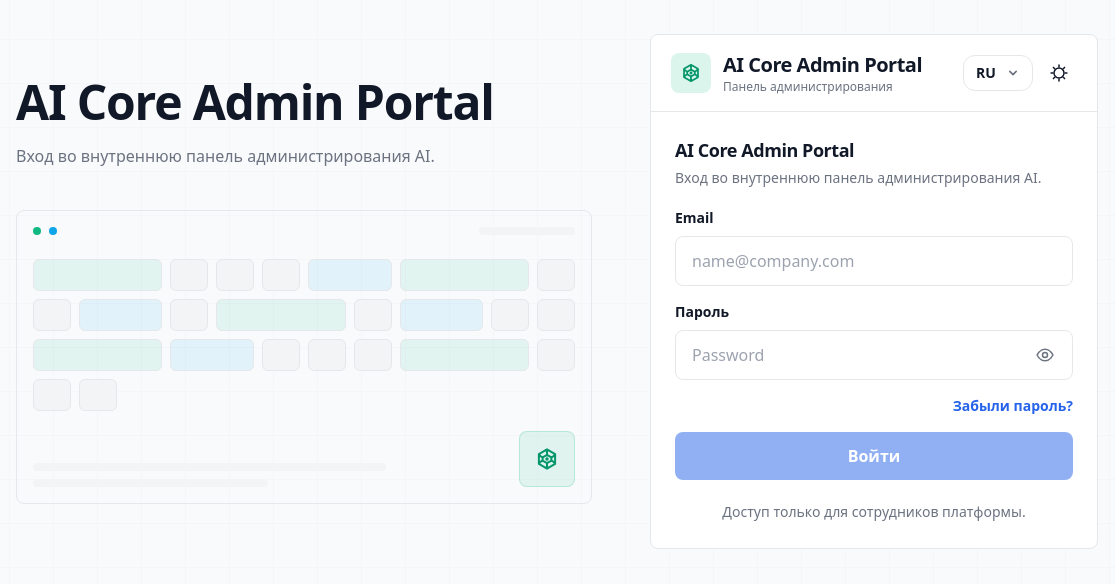
Test case: LoginPage › localizes backend authentication errors by error code
The image size is (1115, 584).
Type "root@mail.com" into the field labelled "Email" at (874, 260), box [675, 236, 1073, 286]
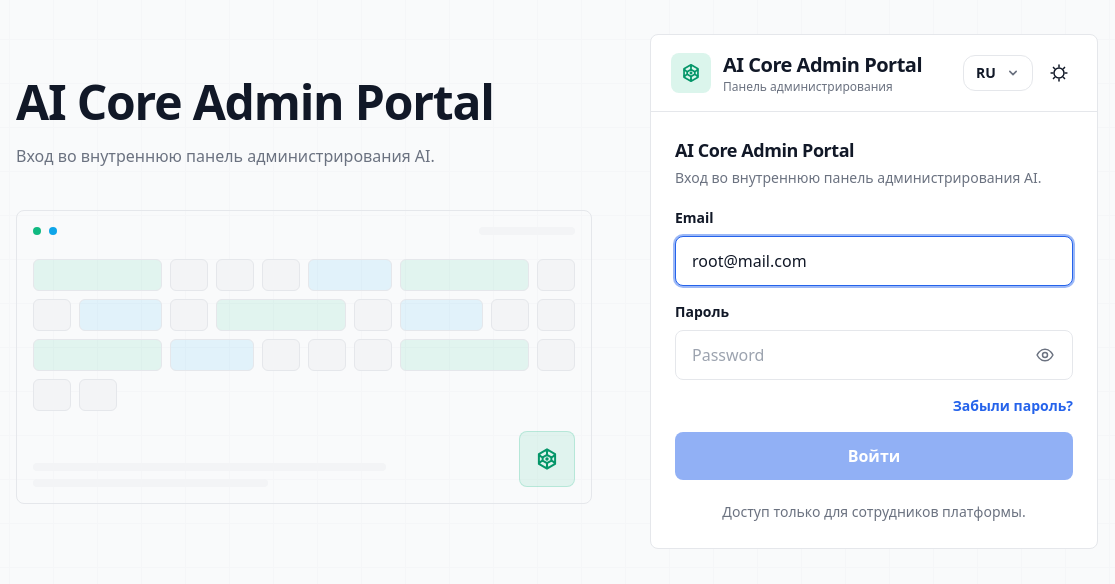
Type "WrongPassword123!" into the password field labelled "Пароль" at (874, 354), box [675, 330, 1073, 380]
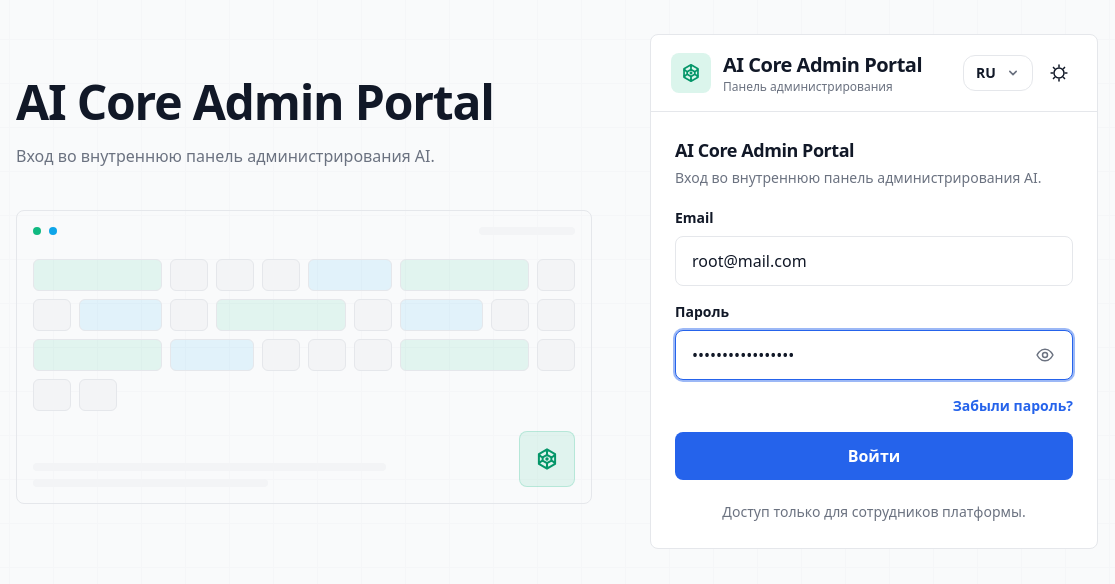
Click the button "Войти" at (874, 456), box [675, 432, 1073, 480]
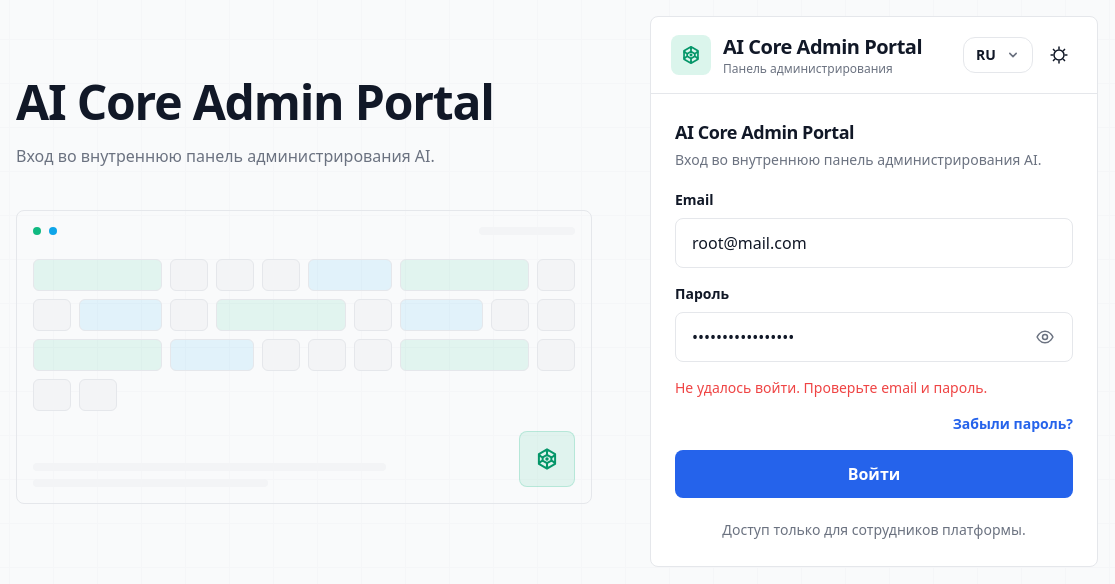
Now the text "Не удалось войти. Проверьте email и пароль." is shown, box [675, 378, 987, 396]
